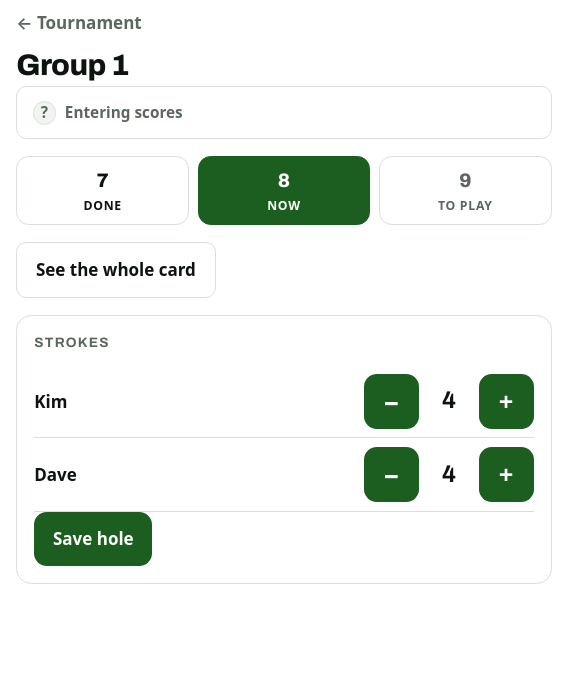
it: how Threes works › answers the tie-break question on score entry, without leaving it
This screenshot has width=569, height=696.
Expected: the text "if two of you tie on strokes" is not shown
Click the heading "? Entering scores": point(108, 113) [32, 101, 183, 125]
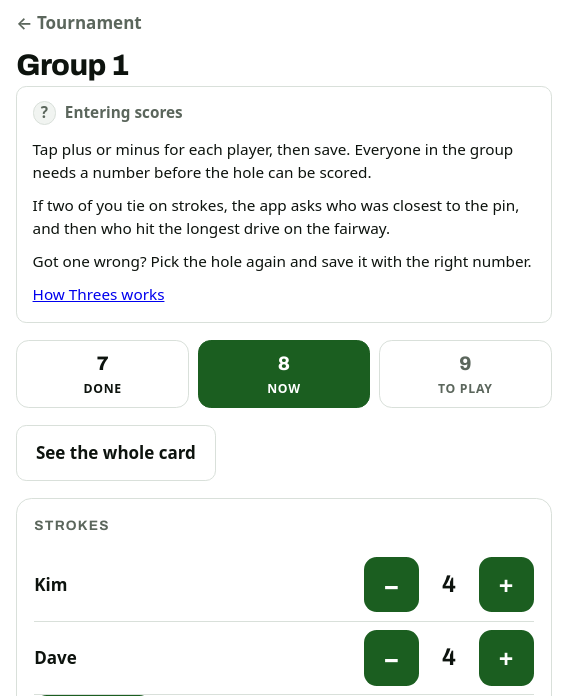
Expected: the heading "Group 1" is shown, [16, 48, 129, 82]
Result: the text "If two of you tie on strokes" is shown at [32, 195, 519, 238]
